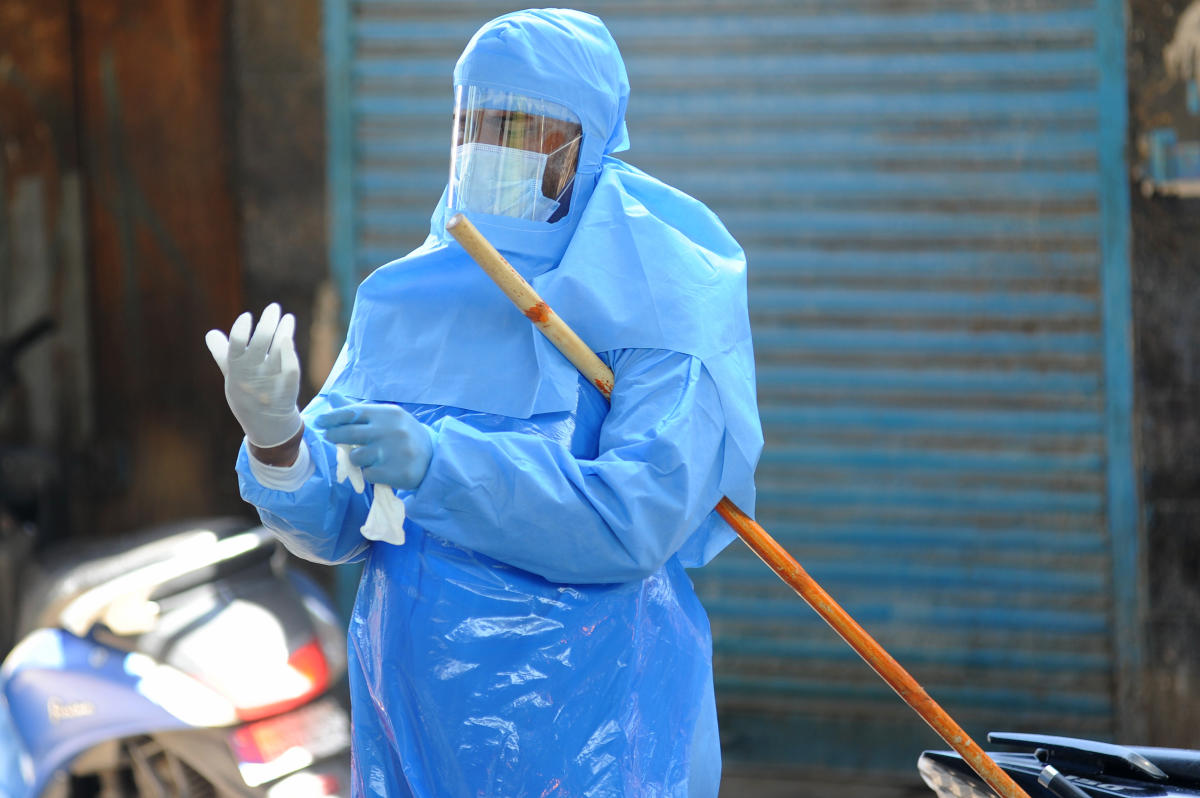Coverall: (234, 6, 763, 794)
Face_Shield: (448, 83, 566, 251)
Gloves: (204, 301, 305, 449), (314, 404, 440, 493)
with_mask: (451, 117, 560, 219)
